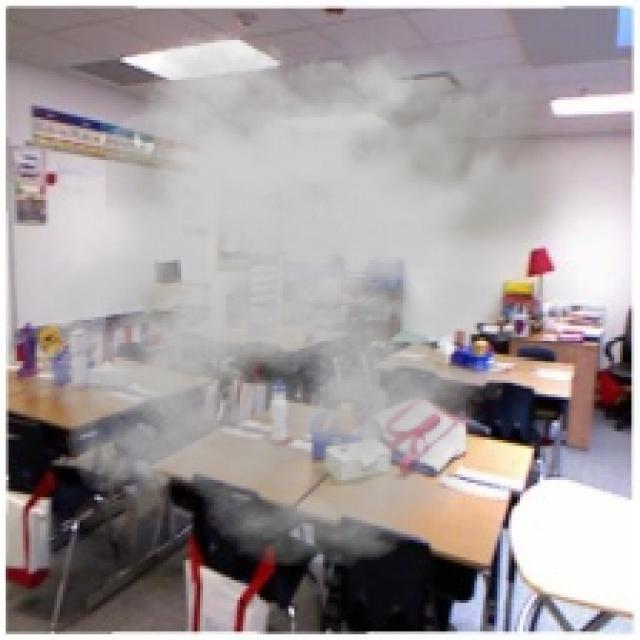smoke: (20, 14, 577, 569)
